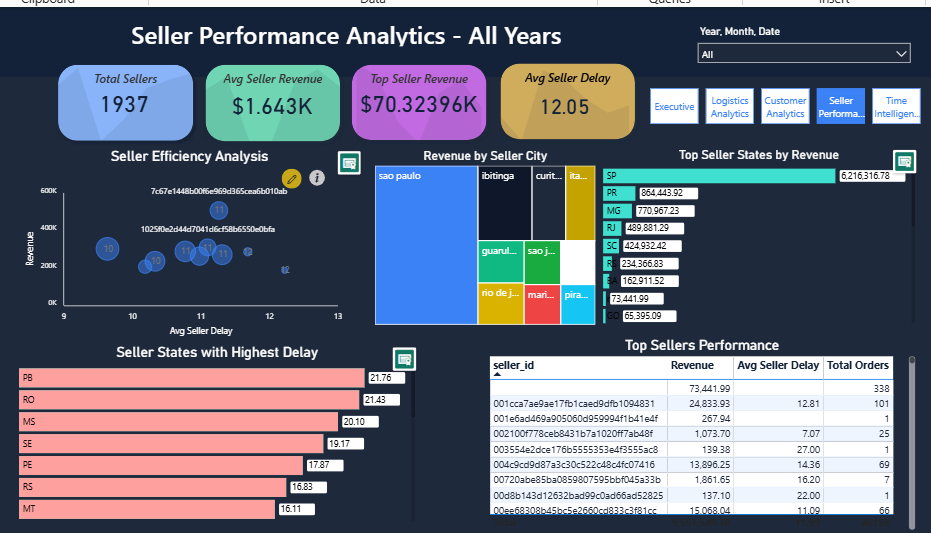

The page's visual inventory and layout, read from the dashboard file:
{"tool":"powerbi","page":{"name":"Seller Performance","canvas":[1280,720],"ordinal":3},"visuals":[{"type":"shape","box":[0,0,1280,95.8],"z":0},{"type":"shape","box":[71.9,70.8,202.9,121.8],"z":0,"group":"g1"},{"type":"shape","box":[677.9,68.4,201.9,121.5],"z":1000,"group":"g1"},{"type":"cardVisual","fields":{"Data":["Dim_Date.Seller Performance Title"]},"box":[29.1,0,893.3,71.9],"z":2000},{"type":"kpi","fields":{"TrendLine":["Dim_Date.Day Name"],"Indicator":["Dim_Date.Total Sellers"]},"box":[72,78.2,198.5,109.5],"z":2000,"group":"g1"},{"type":"kpi","fields":{"TrendLine":["Dim_Date.Day Name"],"Indicator":["Dim_Date.Avg Seller Delay"]},"box":[681.3,81.3,186.5,106.1],"z":3000,"group":"g1"},{"type":"performanceBubbleChartFBAAA829CB604E5CAB4F21729F233294","title":"Seller Efficiency Analysis","fields":{"xmeasure":["Dim_Date.Avg Seller Delay"],"ymeasure":["Dim_Date.Revenue"],"category":["dim_sellers.seller_id"],"zmeasure":["Dim_Date.Seller Orders"]},"box":[22.2,193.4,477,266],"z":3000},{"type":"shape","box":[274.5,70.3,202.1,122.6],"z":4000,"group":"g1"},{"type":"tableEx","title":"Top Sellers Performance","fields":{"Values":["dim_sellers.seller_id","Dim_Date.Revenue","Dim_Date.Avg Seller Delay","Dim_Date.Total Orders"]},"box":[665.7,451.8,593.8,268.7],"z":4000},{"type":"shape","box":[473.8,70.9,202.2,120.8],"z":5000,"group":"g1"},{"type":"horizontalBarChartPBICraft","title":"Top Seller States by Revenue","fields":{"measure":["Dim_Date.Revenue"],"category":["dim_sellers.seller_state"]},"box":[821.4,191.7,438.1,246.4],"z":5000},{"type":"kpi","fields":{"TrendLine":["Dim_Date.Day Name"],"Indicator":["fact_orders.Avg Seller Revenue"]},"box":[275.8,80.2,197,108],"z":6000,"group":"g1"},{"type":"horizontalBarChartPBICraft","title":"Seller States with Highest Delay","fields":{"category":["dim_sellers.seller_state"],"overlapValues":["Dim_Date.Avg Seller Delay"]},"box":[22.2,462,552.7,246.4],"z":6000},{"type":"group","id":"g1","title":"Group 1","box":[71.9,68.4,807.7,124.9],"z":7000},{"type":"kpi","fields":{"TrendLine":["Dim_Date.Day Name"],"Indicator":["fact_orders.Top Seller Revenue"]},"box":[484.4,73.1,181.4,118.1],"z":7000,"group":"g1"},{"type":"treemap","title":"Revenue by Seller City","fields":{"Group":["dim_sellers.seller_city"],"Values":["Dim_Date.Revenue"]},"box":[509.9,193.4,311.4,246.4],"z":8000},{"type":"pageNavigator","box":[891.6,111.2,374.8,49.6],"z":9000},{"type":"slicer","fields":{"Values":["Dim_Date.Year","Dim_Date.Month","Dim_Date.Date"]},"box":[946.3,20.5,311.4,75.3],"z":9001}]}

Visuals, with their boxes on the page's 1280x720 design canvas (x1, y1, x2, y2). These are canvas units, not pixel positions in the 931x533 screenshot, which may show the page scaled, cropped or inside an application window:
shape: <bbox>0, 0, 1280, 96</bbox>
shape: <bbox>72, 71, 275, 193</bbox>
shape: <bbox>678, 68, 880, 190</bbox>
cardVisual - Dim_Date.Seller Performance Title: <bbox>29, 0, 922, 72</bbox>
kpi - Dim_Date.Day Name x Dim_Date.Total Sellers: <bbox>72, 78, 270, 188</bbox>
kpi - Dim_Date.Day Name x Dim_Date.Avg Seller Delay: <bbox>681, 81, 868, 187</bbox>
"Seller Efficiency Analysis" performanceBubbleChartFBAAA829CB604E5CAB4F21729F233294: <bbox>22, 193, 499, 459</bbox>
shape: <bbox>274, 70, 477, 193</bbox>
"Top Sellers Performance" tableEx: <bbox>666, 452, 1260, 720</bbox>
shape: <bbox>474, 71, 676, 192</bbox>
"Top Seller States by Revenue" horizontalBarChartPBICraft: <bbox>821, 192, 1260, 438</bbox>
kpi - Dim_Date.Day Name x fact_orders.Avg Seller Revenue: <bbox>276, 80, 473, 188</bbox>
"Seller States with Highest Delay" horizontalBarChartPBICraft: <bbox>22, 462, 575, 708</bbox>
"Group 1" group: <bbox>72, 68, 880, 193</bbox>
kpi - Dim_Date.Day Name x fact_orders.Top Seller Revenue: <bbox>484, 73, 666, 191</bbox>
"Revenue by Seller City" treemap: <bbox>510, 193, 821, 440</bbox>
pageNavigator: <bbox>892, 111, 1266, 161</bbox>
slicer - Dim_Date.Year x Dim_Date.Month: <bbox>946, 20, 1258, 96</bbox>
